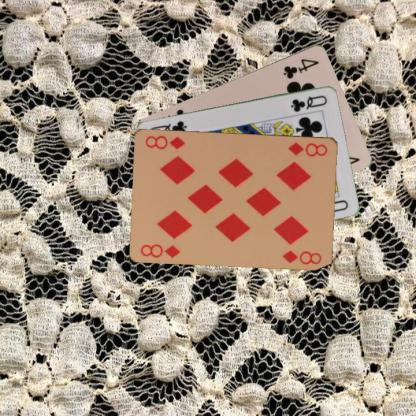4c: (280, 55, 320, 80)
8d: (285, 139, 329, 158), (138, 241, 182, 259)
Qc: (288, 92, 329, 113)
